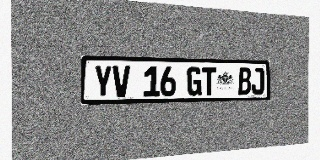1: (144, 66, 160, 97)
6: (160, 66, 176, 96)
B: (238, 68, 251, 95)
G: (187, 67, 202, 96)
J: (252, 68, 264, 95)
T: (202, 67, 216, 96)
V: (113, 65, 130, 97)
Y: (94, 65, 112, 98)
